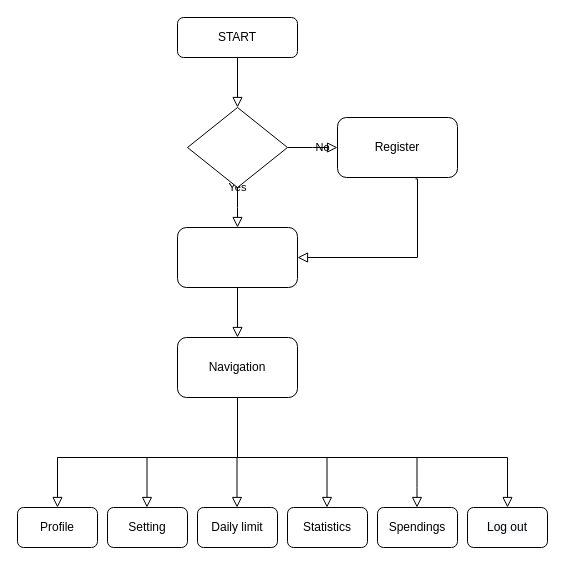
Image size: 565x581. Some labels were removed from this diagram. Each missing label, with the box of its shape:
Existing account: (186, 106, 288, 188)
Login: (176, 226, 298, 288)
